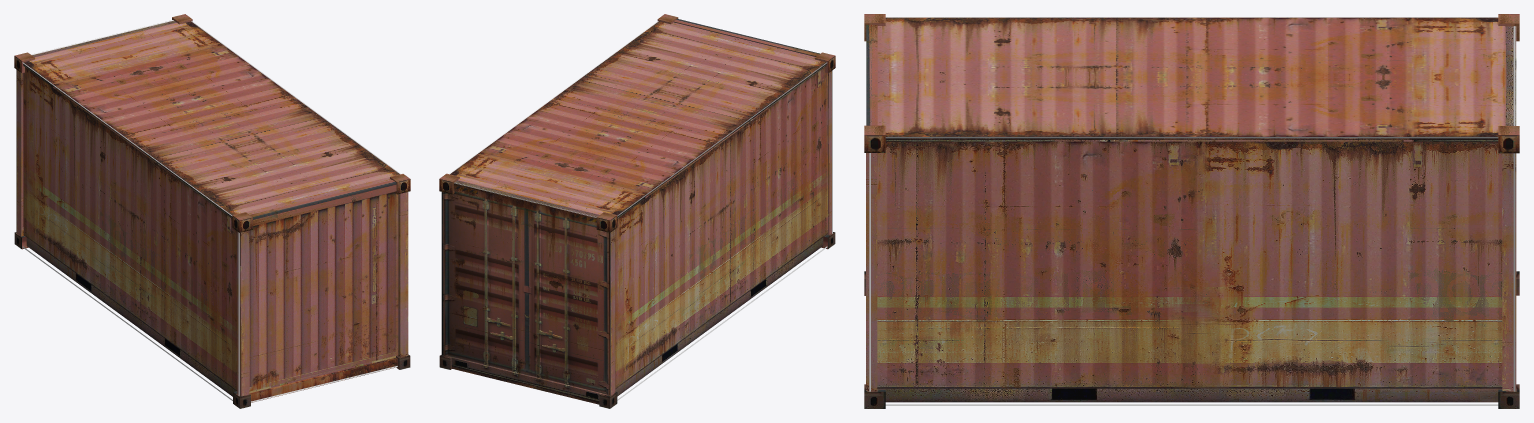
The model's file is container_small_red.fbx.
The picture shows the model from 3 angles, left to right: view 1: azimuth 30°, elevation 25°; view 2: azimuth 150°, elevation 25°; view 3: azimuth 270°, elevation 25°; orthographic projection. The views are drawn at different scales.
Visible parts, largest first — view 1: container_small_mesh, px_container_small_mesh; view 2: container_small_mesh, px_container_small_mesh; view 3: container_small_mesh, px_container_small_mesh.
Boxes of the visible parts, x1,y1,x2,y2 form: container_small_mesh: (14, 14, 410, 408); px_container_small_mesh: (16, 20, 400, 402); container_small_mesh: (439, 14, 835, 408); px_container_small_mesh: (441, 21, 832, 400); container_small_mesh: (864, 14, 1519, 408); px_container_small_mesh: (869, 17, 1515, 405).
Bounding box in the file's own units: 2.76 × 2.9 × 6.29.
1 material, 1 textured.
